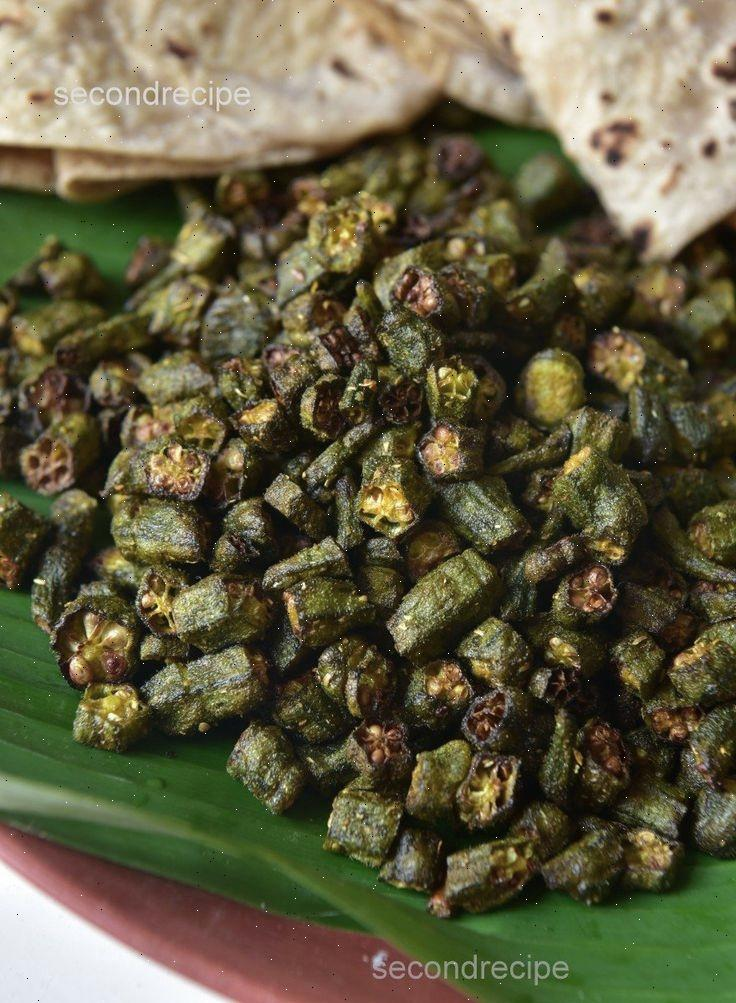bhindi: (162, 239, 650, 796)
